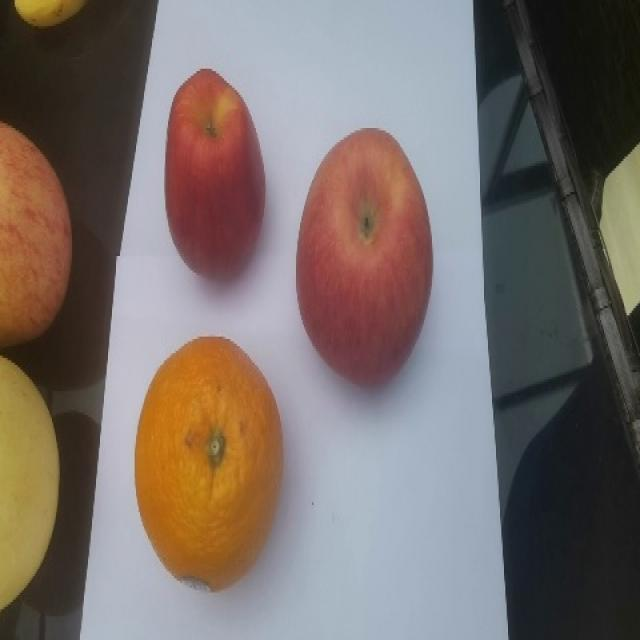Apple: (295, 126, 433, 388), (163, 67, 266, 280), (0, 119, 73, 348)
Orange: (133, 334, 283, 592)
